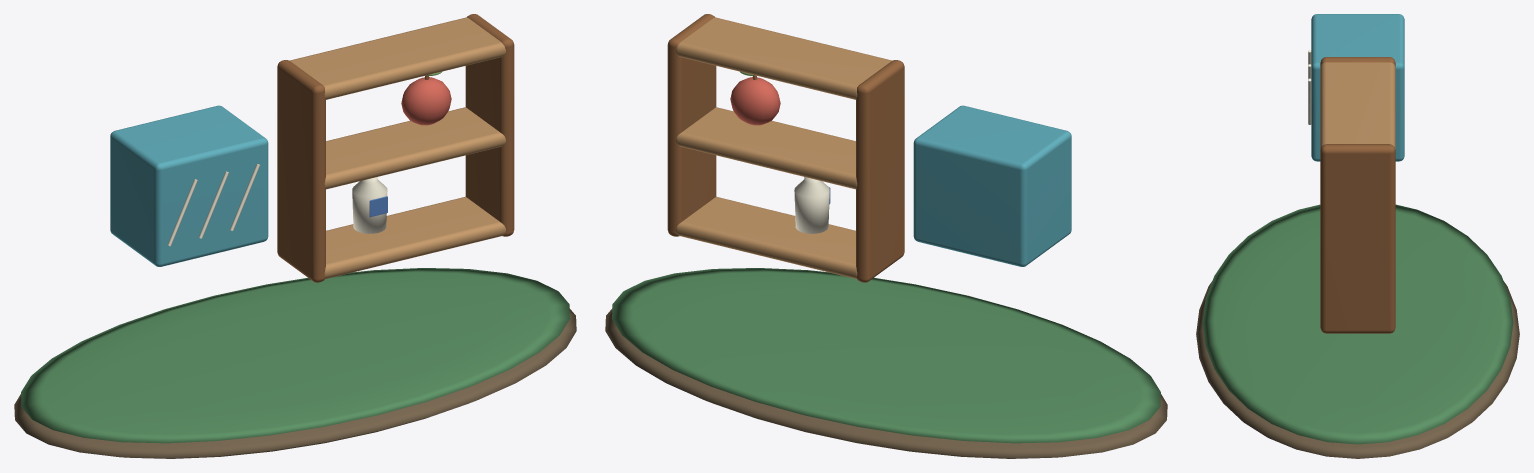
The model's file is ice-box.glb.
3 renders of one model, left to right at view 1: azimuth 30°, elevation 25°; view 2: azimuth 150°, elevation 25°; view 3: azimuth 270°, elevation 25°, orthographic. The views are drawn at different scales.
Visible parts, largest first — view 1: ice-box_surface_01, ice-box_surface_04, ice-box_surface_02, ice-box_surface_05, ice-box_surface_00, ice-box_surface_03, ice-box_surface_07; view 2: ice-box_surface_01, ice-box_surface_04, ice-box_surface_02, ice-box_surface_05, ice-box_surface_00, ice-box_surface_07, ice-box_surface_03; view 3: ice-box_surface_01, ice-box_surface_05, ice-box_surface_00, ice-box_surface_04, ice-box_surface_02.
Boxes of the visible parts, <box> form: ice-box_surface_01: <box>21,268,569,443</box>; ice-box_surface_04: <box>290,17,505,279</box>; ice-box_surface_02: <box>110,105,268,266</box>; ice-box_surface_05: <box>277,14,514,282</box>; ice-box_surface_00: <box>14,308,576,458</box>; ice-box_surface_03: <box>167,164,387,246</box>; ice-box_surface_07: <box>401,77,451,125</box>; ice-box_surface_01: <box>612,268,1160,443</box>; ice-box_surface_04: <box>676,17,891,279</box>; ice-box_surface_02: <box>913,105,1071,266</box>; ice-box_surface_05: <box>667,14,904,282</box>; ice-box_surface_00: <box>605,308,1167,458</box>; ice-box_surface_07: <box>730,77,780,125</box>; ice-box_surface_03: <box>794,177,829,233</box>; ice-box_surface_01: <box>1202,204,1513,444</box>; ice-box_surface_05: <box>1320,57,1395,333</box>; ice-box_surface_00: <box>1196,281,1519,458</box>; ice-box_surface_04: <box>1320,62,1395,149</box>; ice-box_surface_02: <box>1311,14,1404,161</box>.
Bounding box in the file's own units: 4.56 × 2.51 × 2.5.
